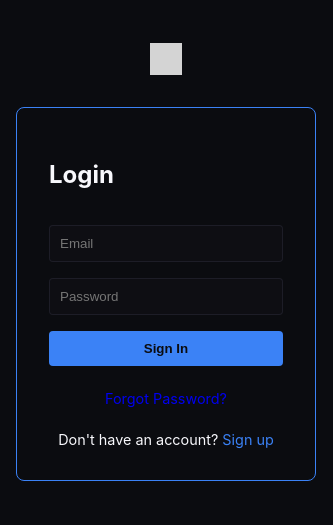
LoginPage › shows error message on failed login
The image size is (333, 525).
Type "x@bec-robotics.com" into the field with placeholder "Email" at [166, 243], box 49,225 -> 283,262
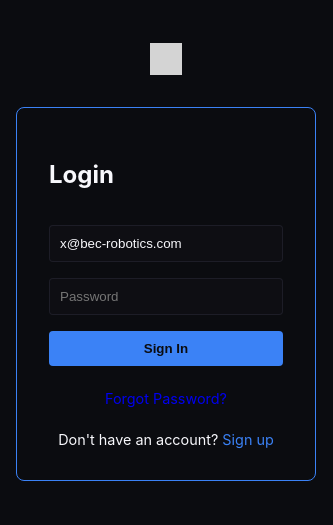
Type "wrong" into the password field with placeholder "Password" at [166, 296], box 49,278 -> 283,315
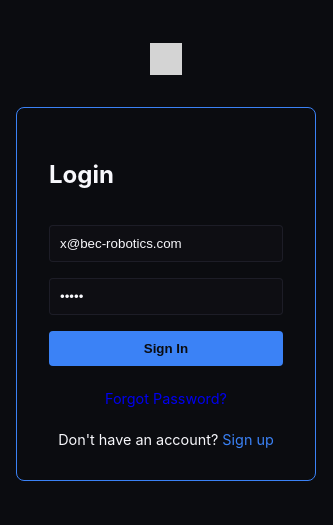
Click the button "Sign In" at [166, 348], box 49,331 -> 283,366
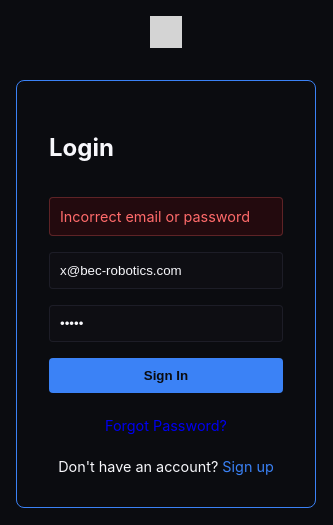
Expected: the text "Incorrect email or password" is shown, 49,197 -> 283,236
